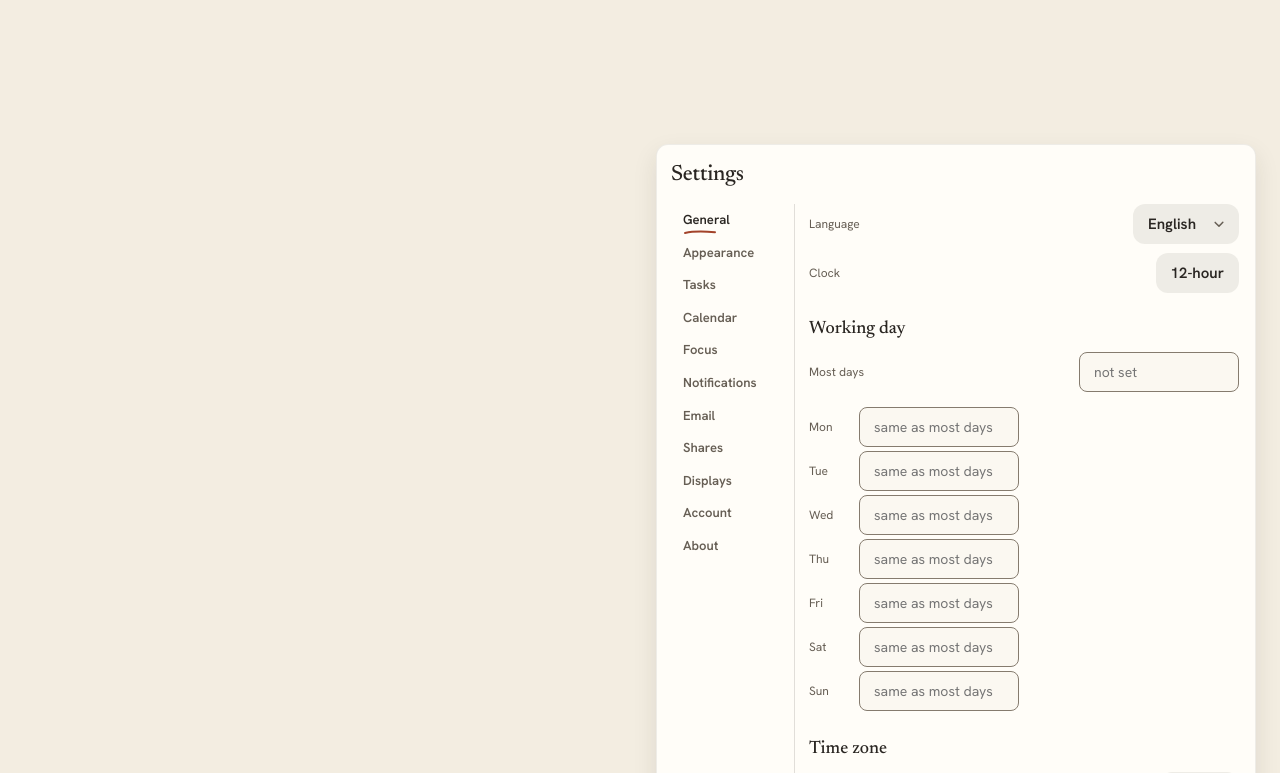
Test: <SettingsMenu> on a desktop › waits on Back while a share name is being added, and asks after it fails
This screenshot has width=1280, height=773.
(page scrolled)
Step 1. Click the tab "Shares" → (728, 448), box [671,432,786,464]
(page scrolled)
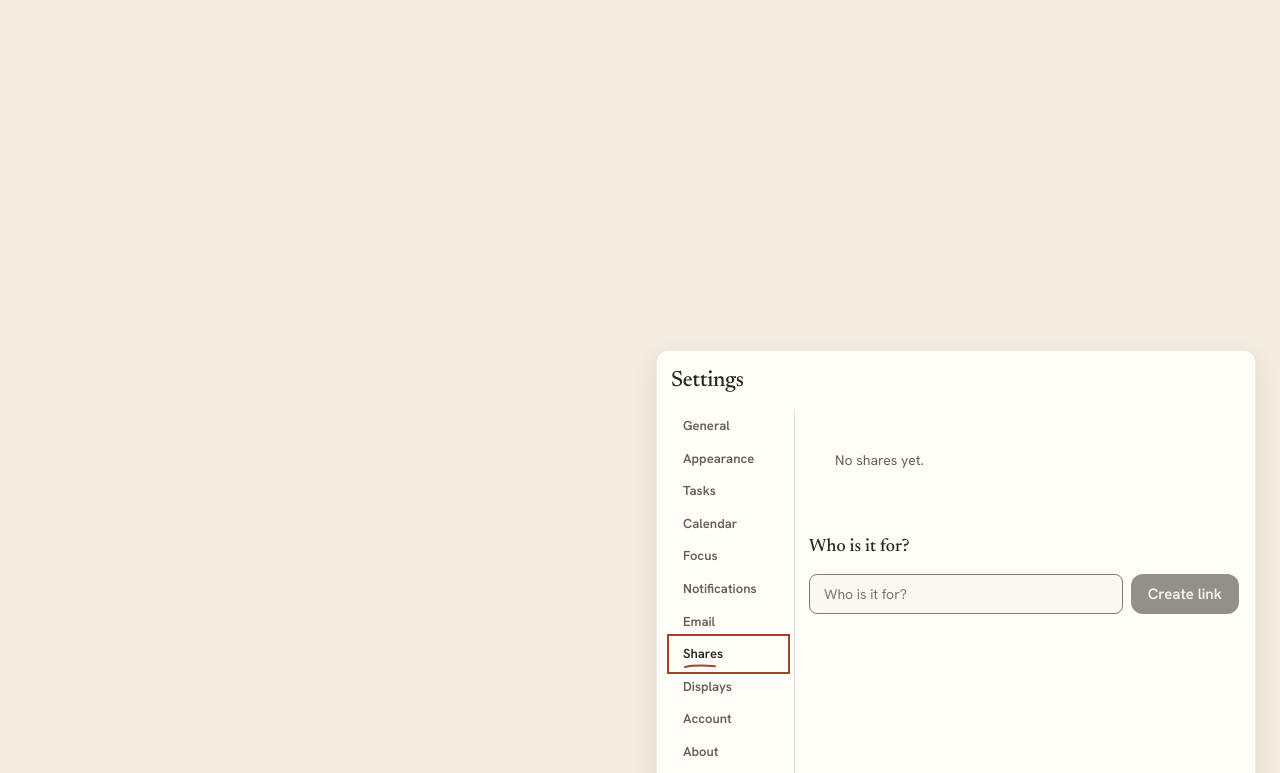
Step 2. Type "Sam" into the field labelled "Who is it for?" → (966, 594), box [809,574,1123,614]
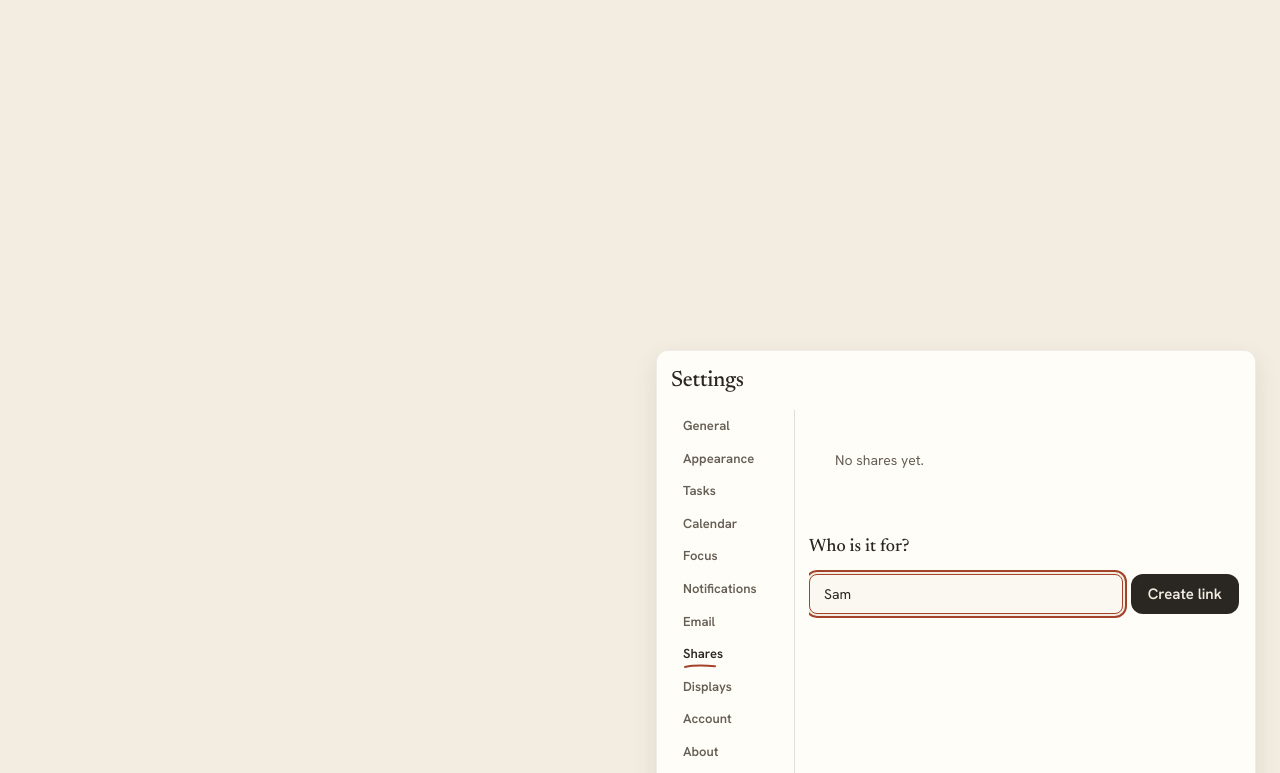
Step 3. Click the button "Create link" → (1185, 594), box [1131,574,1239,614]
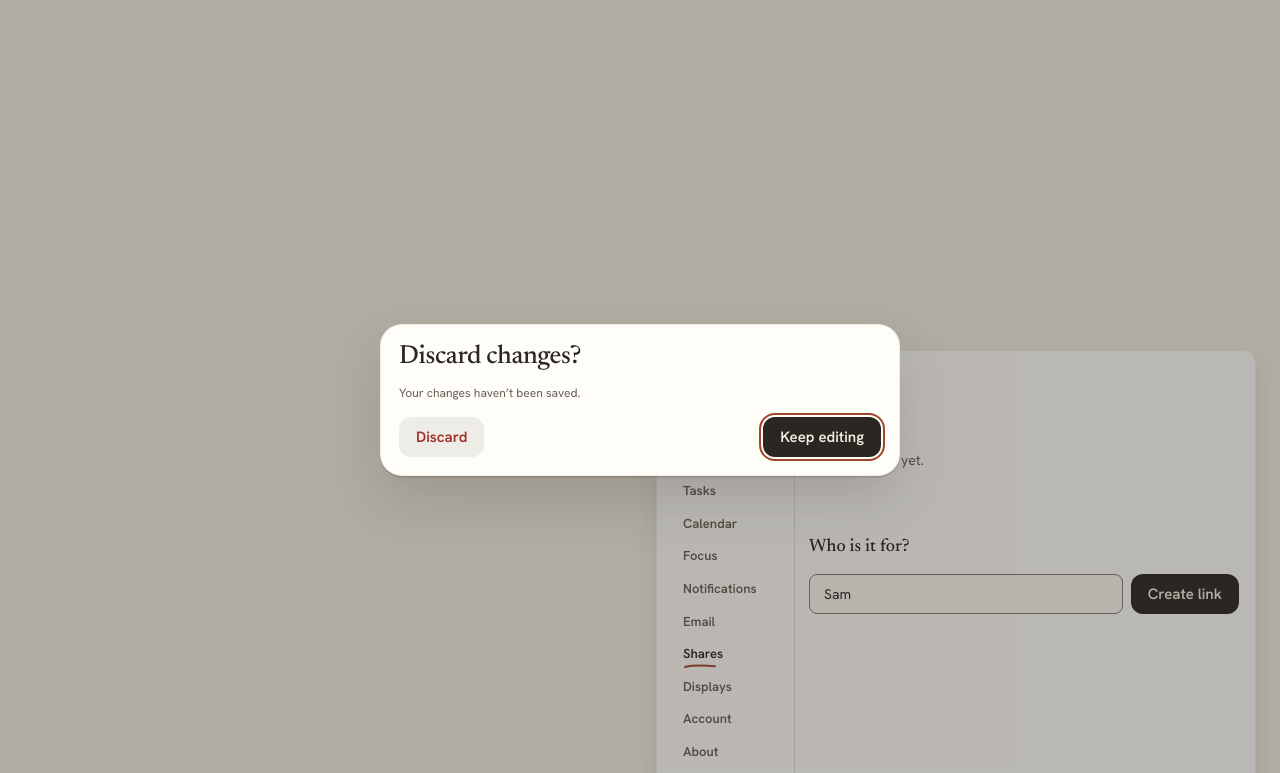
Expected: the dialog "Discard changes?" is shown, [380,324,900,476]
